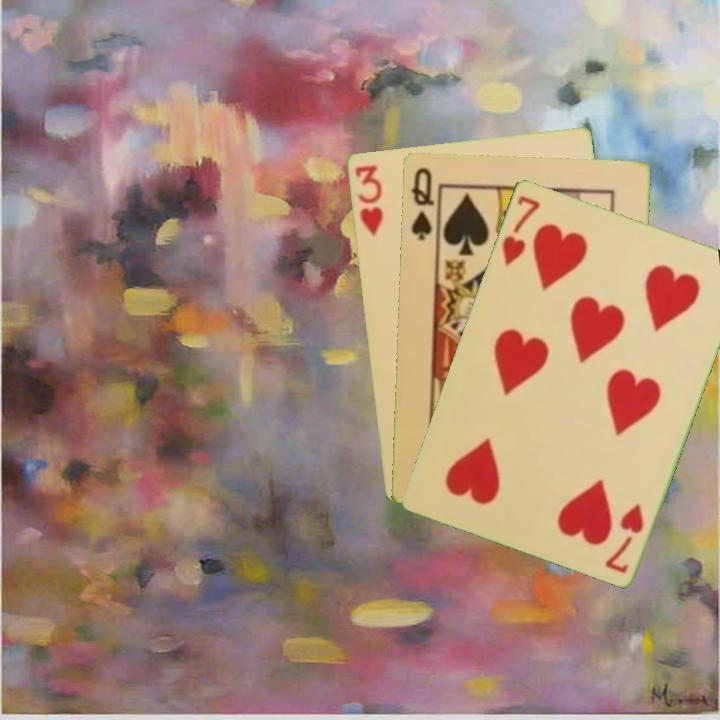3h: (351, 161, 386, 239)
7h: (601, 499, 647, 576), (498, 191, 543, 269)
Qs: (407, 164, 436, 243)
